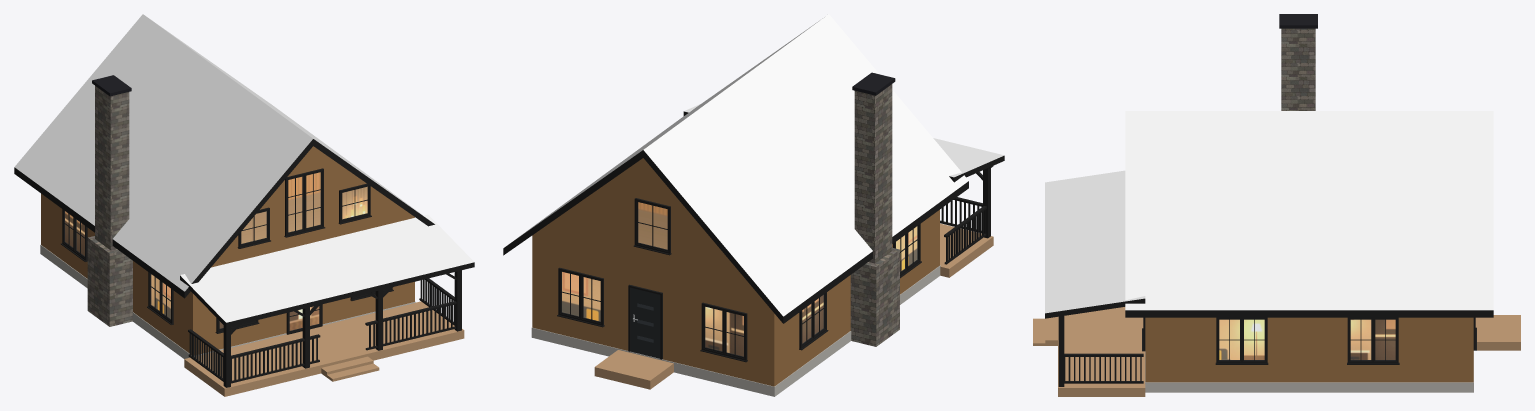
Rendered from metsamaja137_c0_p0_m1.glb.
3 views of the same model, side by side, from view 1: azimuth 30°, elevation 25°; view 2: azimuth 150°, elevation 25°; view 3: azimuth 270°, elevation 25° (orthographic). The views are drawn at different scales.
Parts seen in each view (by area): view 1: roof, wall, fascia, deck, stone, room, frame, glass, plinth, metal; view 2: roof, wall, stone, fascia, room, frame, glass, plinth, deck, door, metal; view 3: roof, wall, deck, fascia, plinth, room, stone, glass, frame, metal.
Part boxes in pixels (x1,y1,x2,y2): roof: (14, 14, 474, 322); wall: (41, 146, 414, 355); fascia: (14, 139, 474, 387); deck: (184, 301, 464, 396); stone: (87, 86, 132, 326); room: (65, 172, 367, 330); frame: (61, 168, 393, 334); glass: (65, 172, 366, 330); plinth: (40, 244, 415, 358); metal: (92, 75, 131, 96); roof: (510, 14, 1004, 316); wall: (532, 158, 939, 386); stone: (850, 84, 899, 346); fascia: (503, 111, 1004, 323); room: (562, 202, 917, 356); frame: (557, 198, 921, 362); glass: (562, 202, 917, 356); plinth: (531, 265, 940, 396); deck: (594, 223, 993, 389); door: (630, 287, 660, 358); metal: (852, 72, 895, 95); roof: (1045, 111, 1493, 313); wall: (1145, 317, 1473, 382); deck: (1033, 307, 1520, 396); fascia: (1045, 298, 1493, 386); plinth: (1145, 351, 1473, 392); room: (1219, 319, 1395, 359); stone: (1281, 28, 1315, 110); glass: (1220, 320, 1394, 359); frame: (1142, 317, 1476, 364); metal: (1279, 14, 1317, 28).
Size of the model in its own units: 9 by 7.57 by 13.38.
15 materials, 6 textured.
